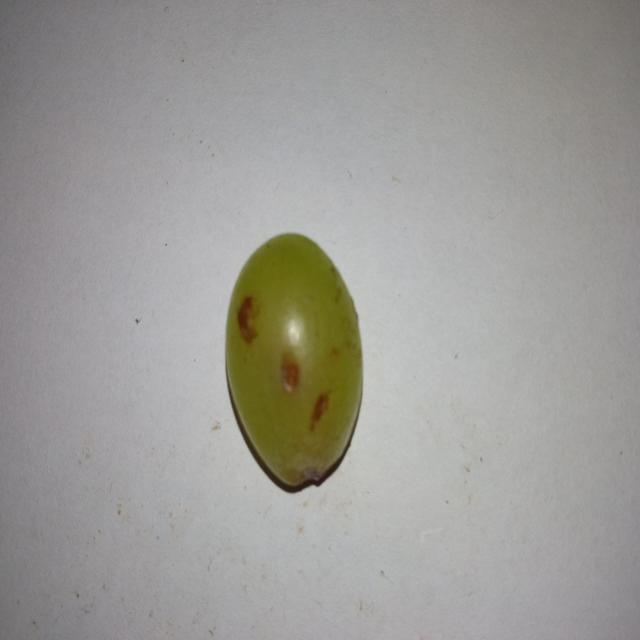rotten_grape: (222, 230, 364, 490)
